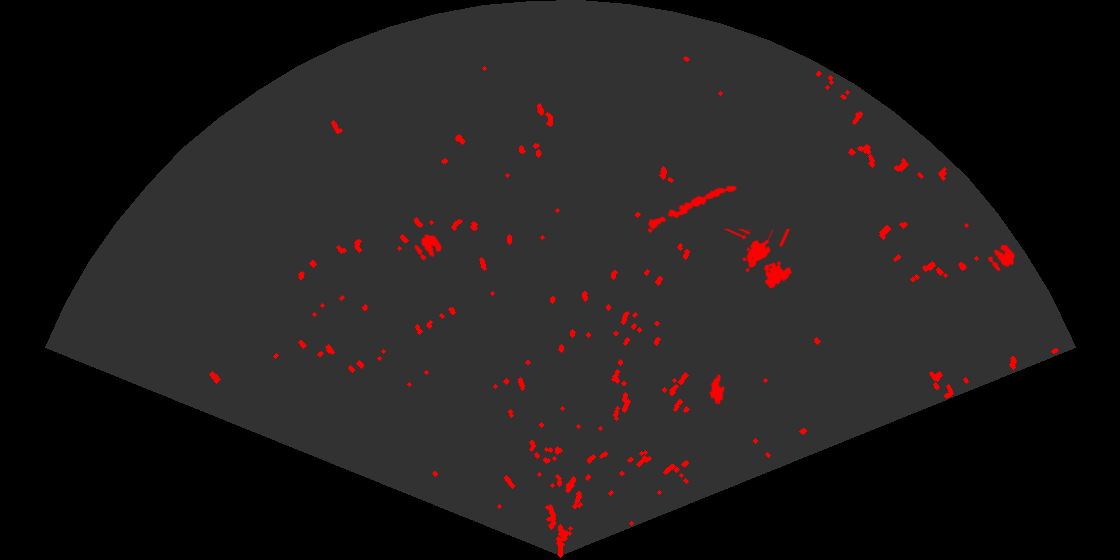AUV: (707, 372, 727, 406)
ball: (986, 243, 1017, 273), (413, 233, 443, 262)
cage: (724, 229, 794, 290)
chain: (638, 184, 738, 233)
